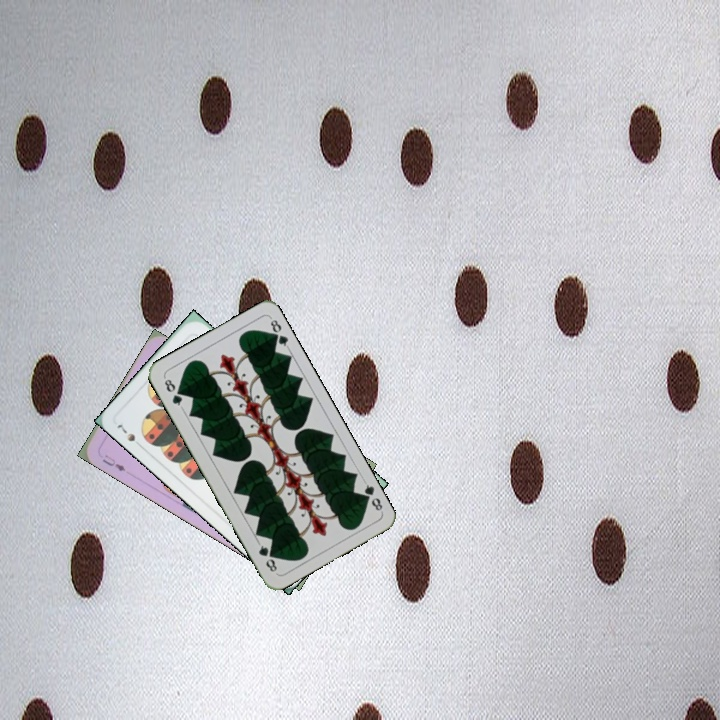EU: (98, 450, 128, 474)
G8: (357, 477, 385, 514), (160, 373, 185, 411)
S7: (113, 419, 145, 451)
